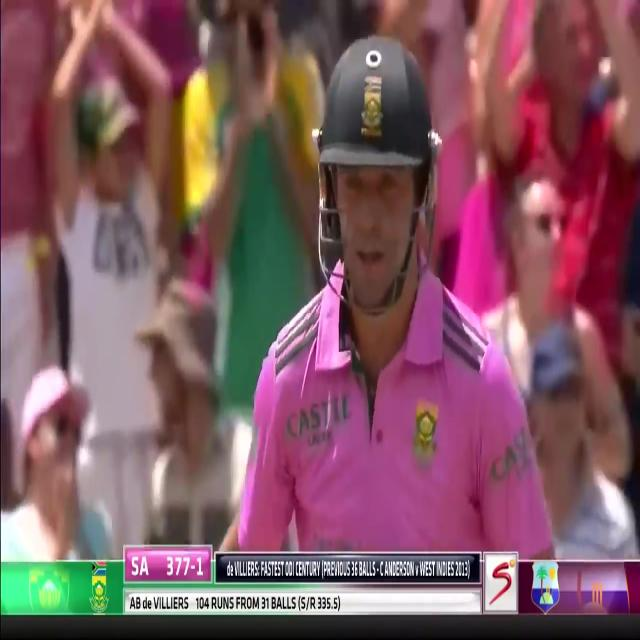Ball: (235, 33, 548, 555)
